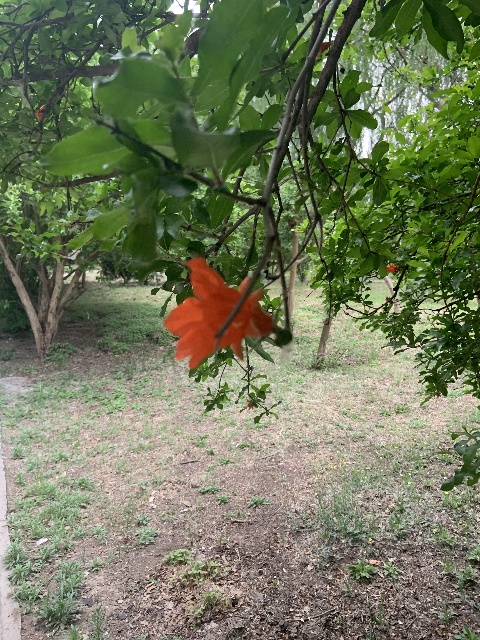flower: (163, 256, 275, 369), (33, 104, 45, 119), (386, 262, 399, 273), (246, 402, 253, 410)
